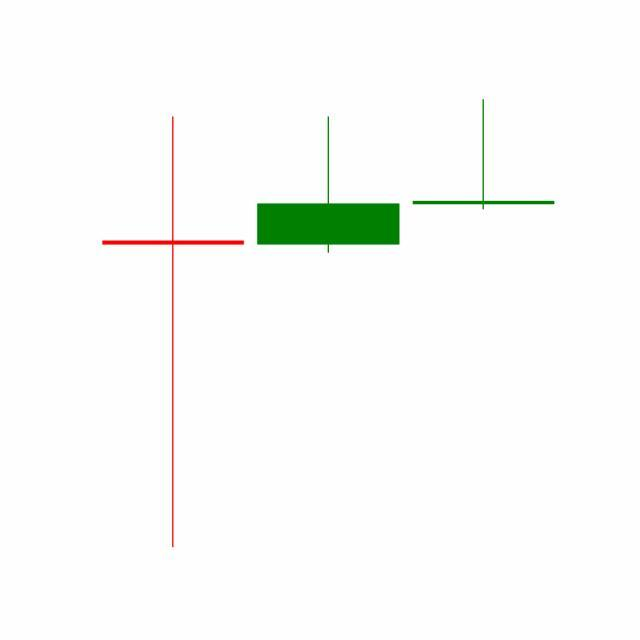Spinning Top: (406, 98, 562, 212)
